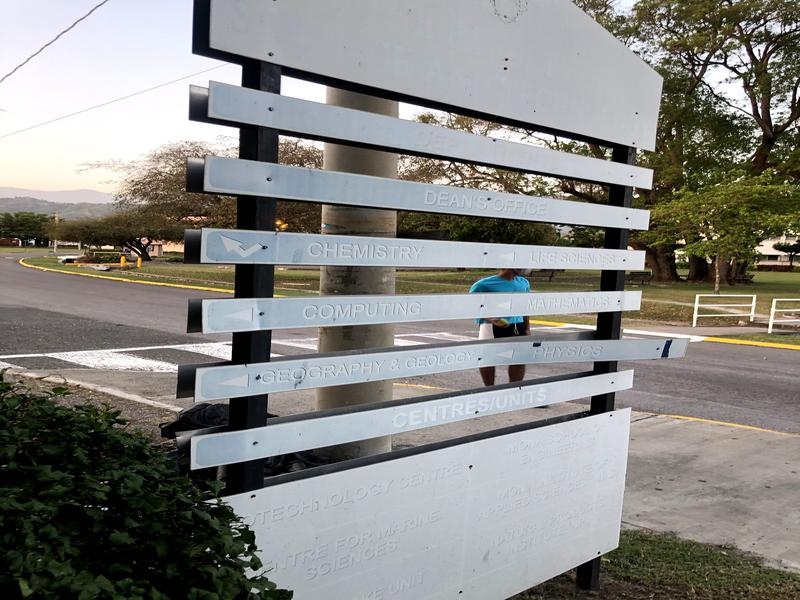18.0055634_-76.7484079_scitechsign: (148, 1, 675, 600)
